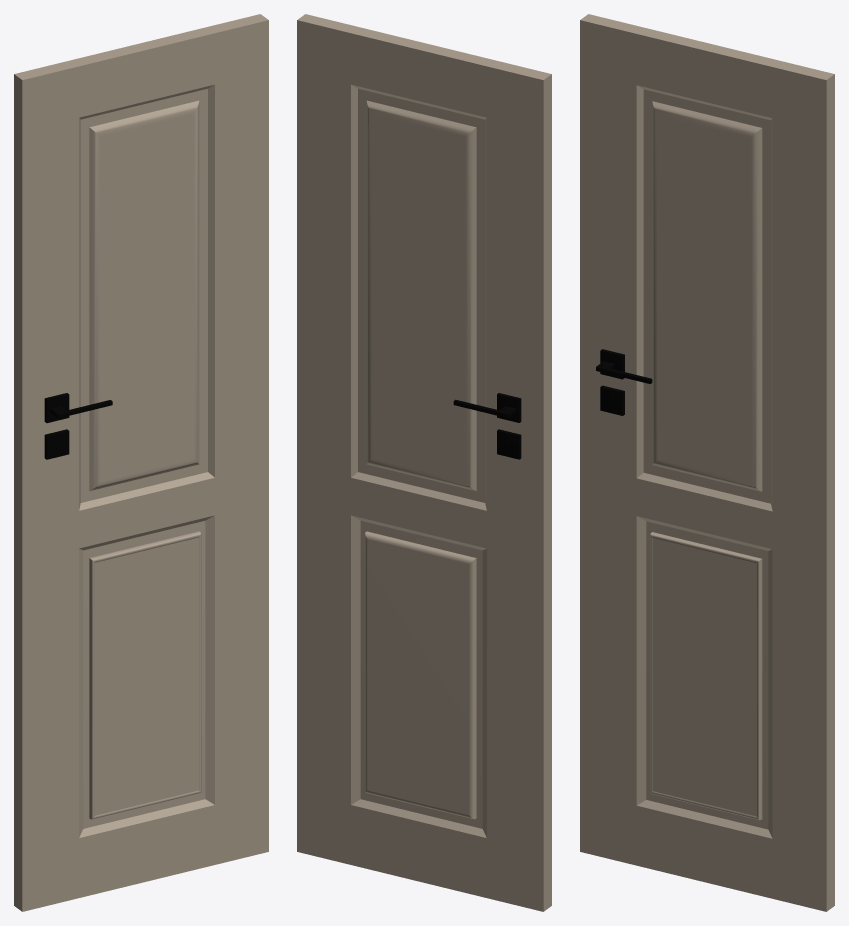
The model's file is RP_4_full2_door.glb.
The picture shows the model from 3 angles, left to right: view 1: azimuth 30°, elevation 25°; view 2: azimuth 150°, elevation 25°; view 3: azimuth 330°, elevation 25°; orthographic projection.
Visible parts, largest first — view 1: RP_4__2_door_; view 2: RP_4__2_door_; view 3: RP_4__2_door_.
Boxes of the visible parts, x1,y1,x2,y2 form: RP_4__2_door_: (14, 14, 268, 911); RP_4__2_door_: (297, 14, 551, 911); RP_4__2_door_: (580, 14, 834, 911).
Bounding box in the file's own units: 0.5514 × 1.78 × 0.1089.
1 material, 1 textured.
